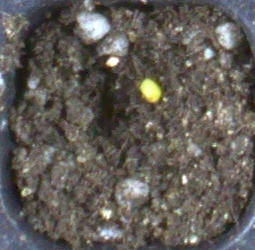chilli seed: (139, 78, 161, 103)
